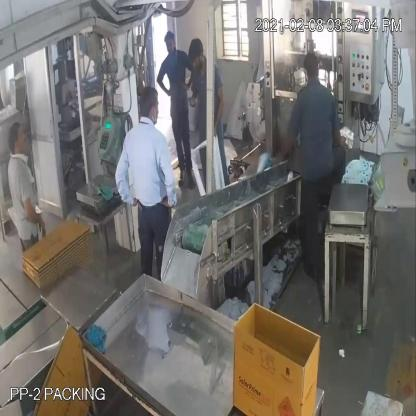no_glove: (14, 189, 51, 237), (159, 145, 181, 215), (112, 147, 132, 205), (216, 78, 228, 146)
